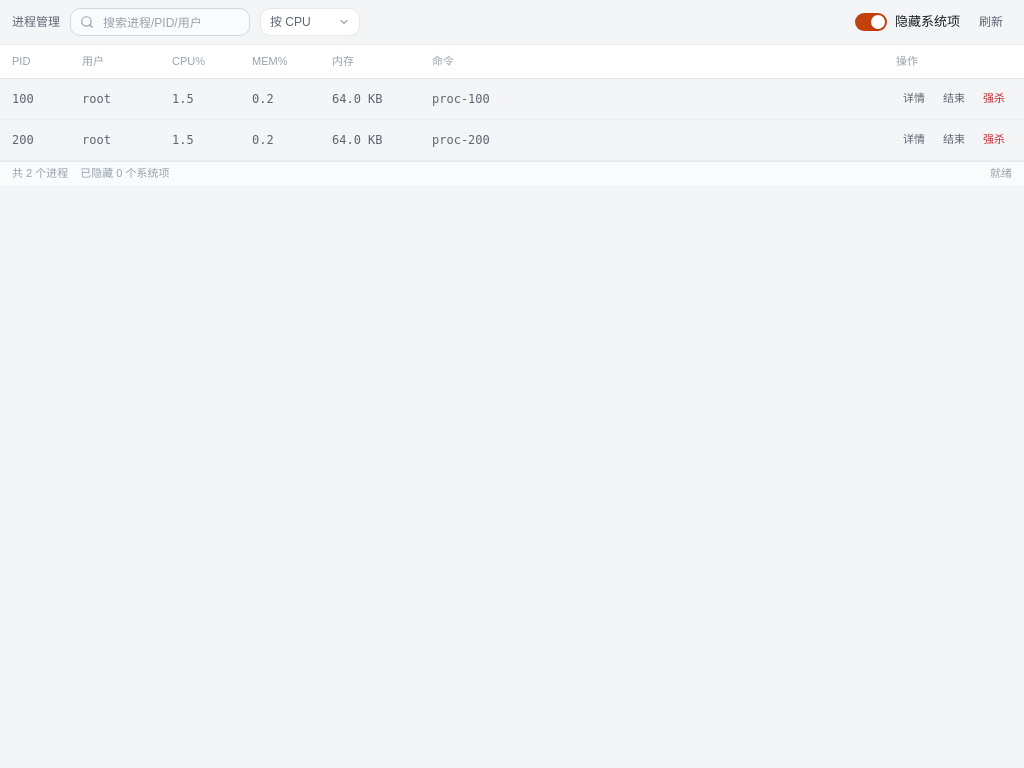
Scenario: ProcessTab 进程详情 › 远端已无该进程时提示已退出且不允许再结束
Click the button "详情" in the row of "proc-100" at (914, 98), box [896,86,932,110]
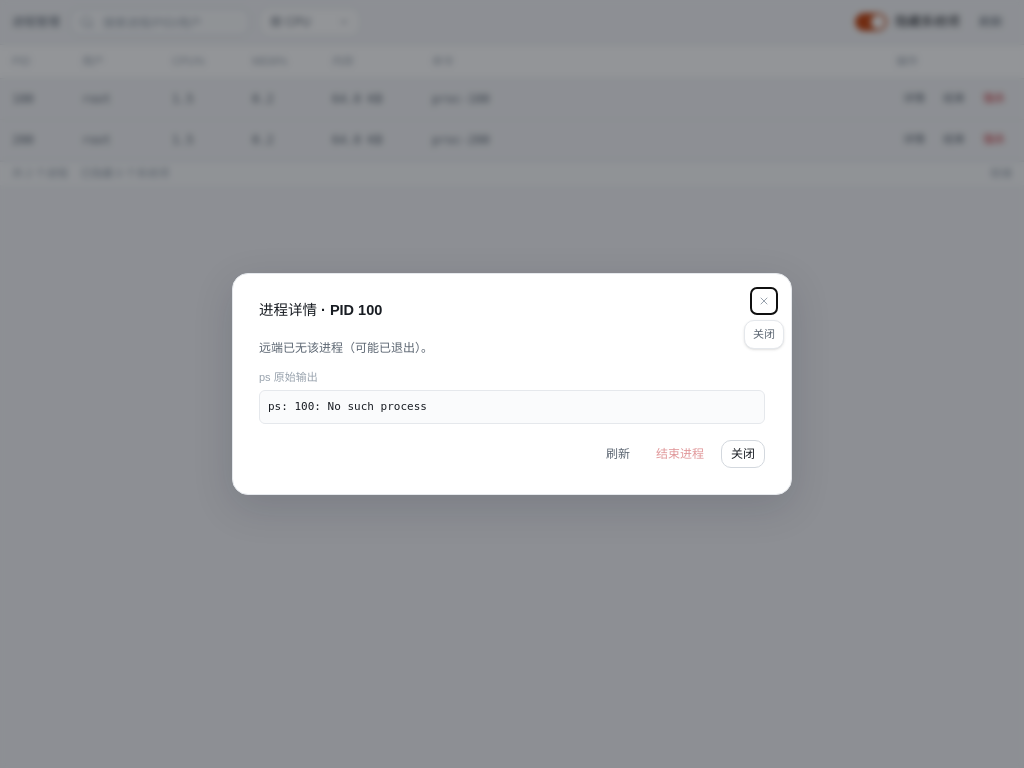
Check: the text "远端已无该进程" is shown, box [259,341,433,355]
Check: the text "ps: 100: No such process" is shown, box [259,390,765,424]
Check: the button "结束进程" is disabled, box [647,440,713,468]
